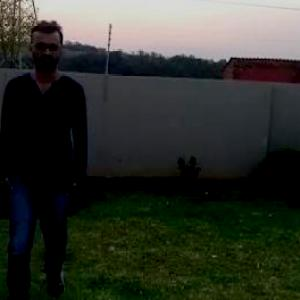follow: (0, 16, 85, 299)
